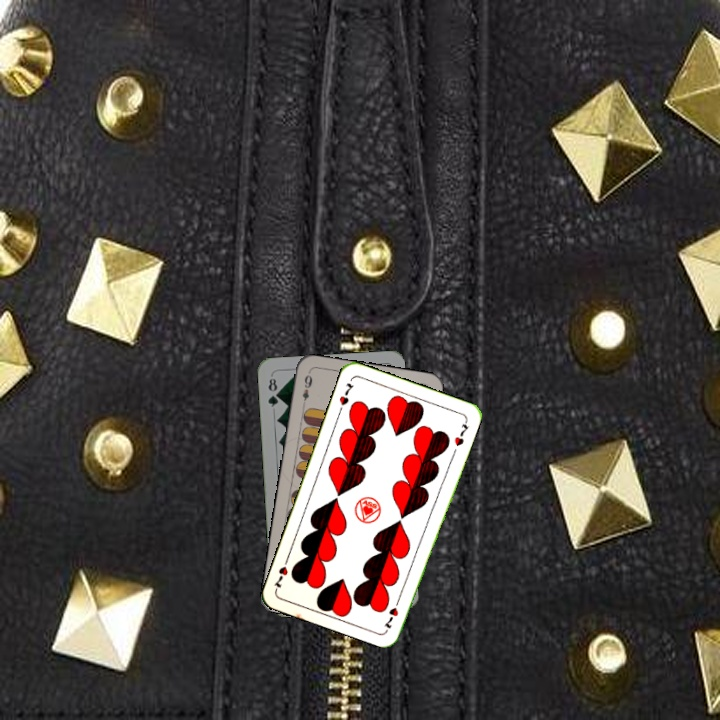E9: (298, 369, 315, 409)
G8: (264, 374, 281, 409)
H7: (382, 593, 403, 631), (335, 379, 356, 415)
